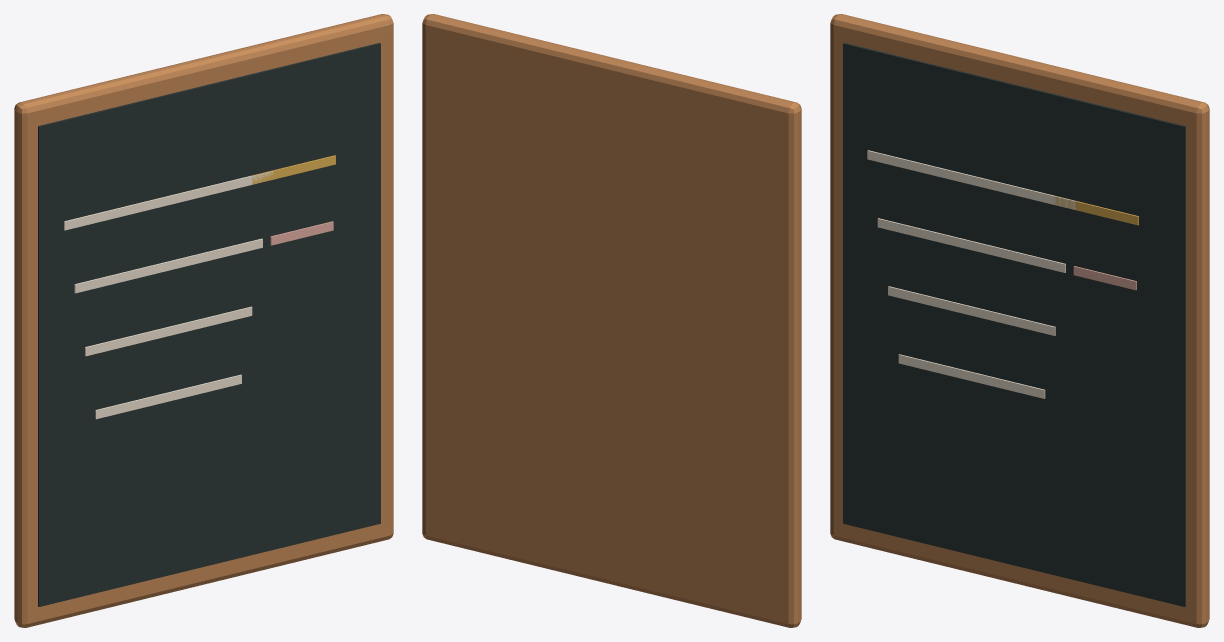
File: chalk_menu_board.glb
3 views of the same model, side by side, from view 1: azimuth 30°, elevation 25°; view 2: azimuth 150°, elevation 25°; view 3: azimuth 330°, elevation 25° (orthographic).
Parts seen in each view (by area): view 1: chalk_menu_board; view 2: chalk_menu_board; view 3: chalk_menu_board.
Boxes of the visible parts, bbox=[...] form: chalk_menu_board: bbox=[14, 14, 393, 627]; chalk_menu_board: bbox=[422, 14, 801, 627]; chalk_menu_board: bbox=[830, 14, 1209, 627].
Bounding box in the file's own units: 0.9 × 1.2 × 0.048.
